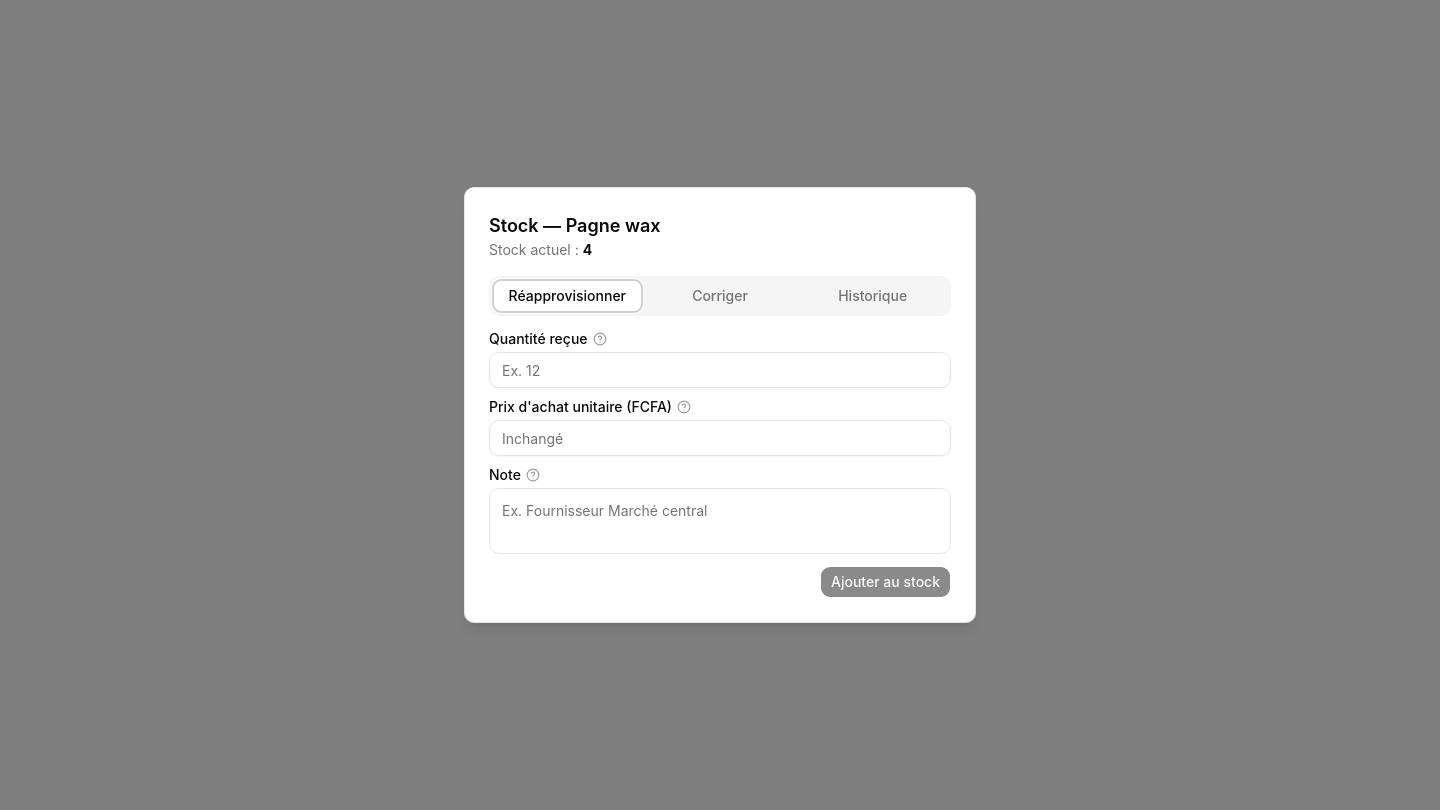
StockDialog › shows the server's refusal
Type "1" into the field labelled "Quantité reçue". click: (720, 370)
box: [489,352,951,388]
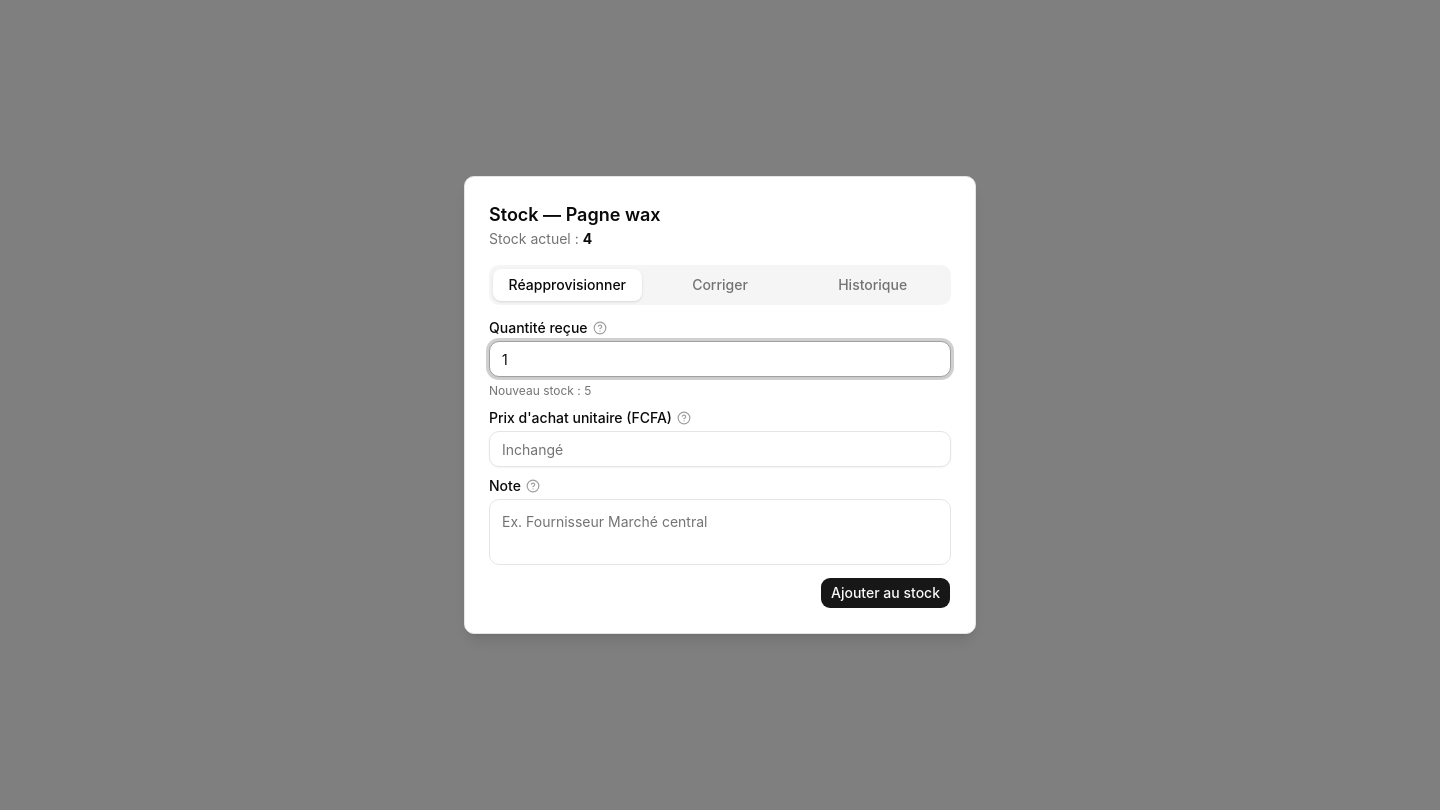
Click the button "Ajouter au stock". click: (886, 593)
box: [820,577,951,609]
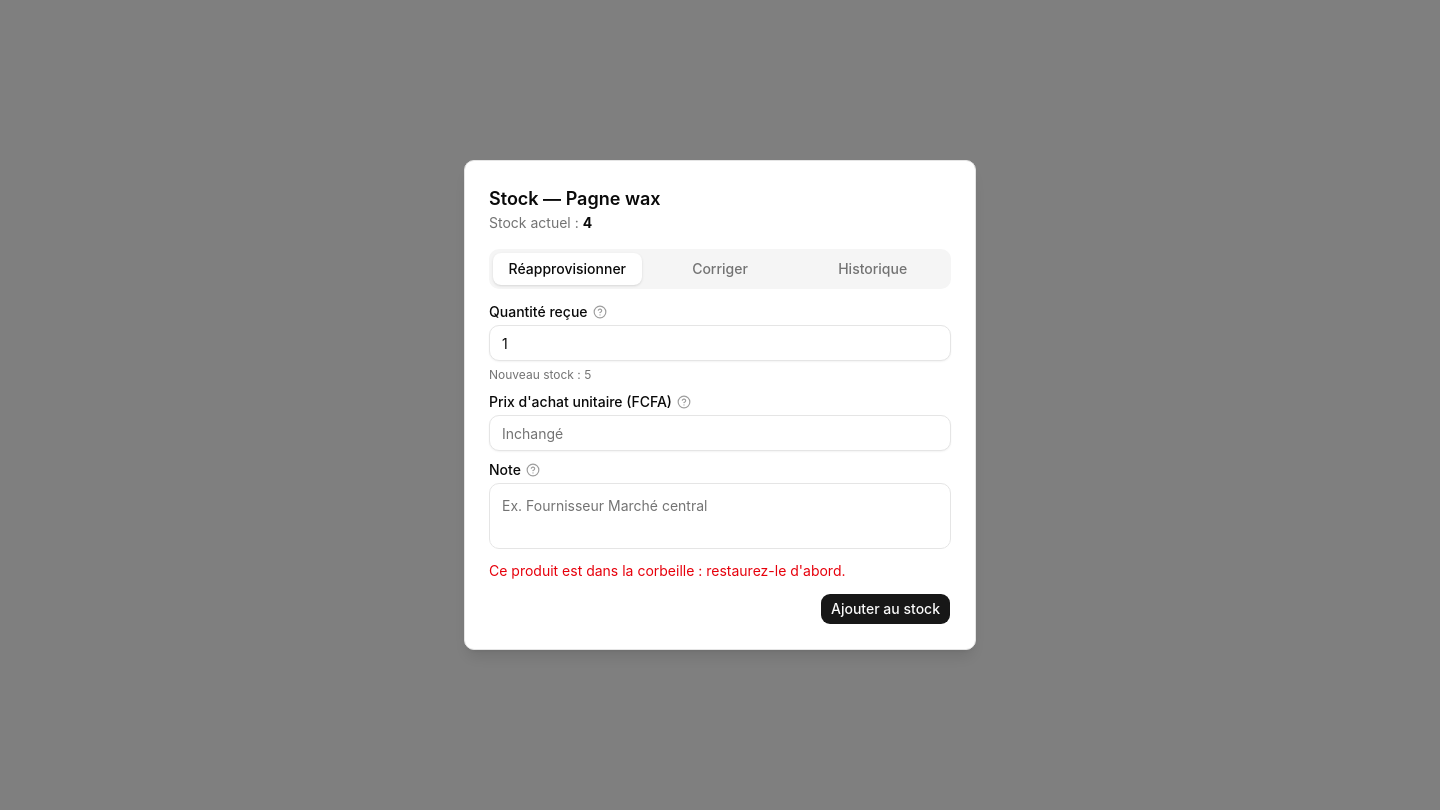
Check: the message shows "restaurez-le d'abord", box [489,562,846,579]
